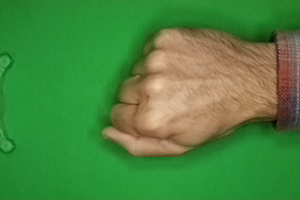Dur: (98, 24, 300, 162)
